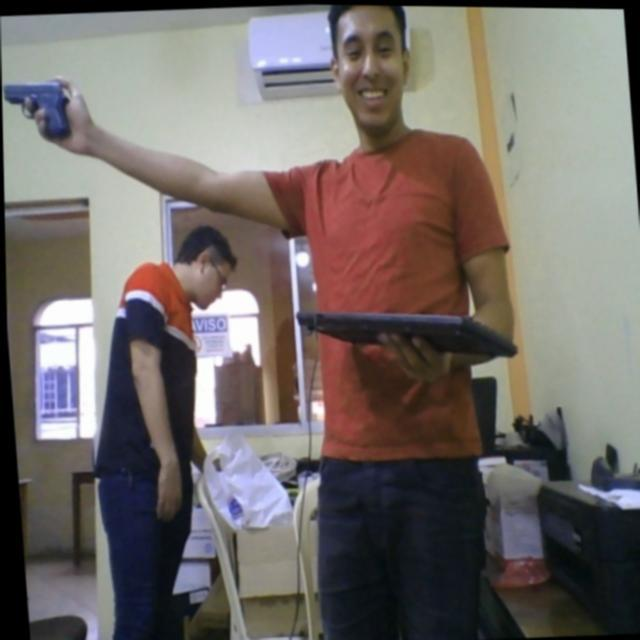weapon: (1, 76, 74, 142)
